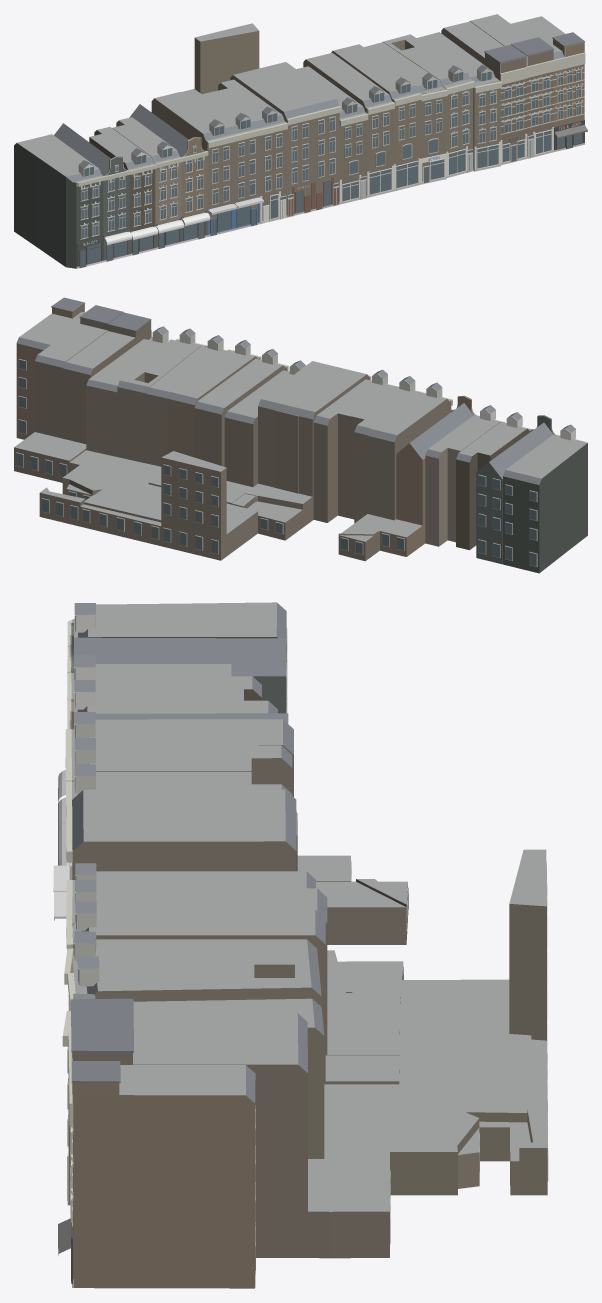
Rendered from chunk-face-kinker-206-242.glb.
The picture shows the model from 3 angles, top to bottom: view 1: azimuth 30°, elevation 25°; view 2: azimuth 150°, elevation 25°; view 3: azimuth 270°, elevation 25°; orthographic projection. The views are drawn at different scales.
Visible parts, largest first — view 1: face-kinker-206-242; view 2: face-kinker-206-242; view 3: face-kinker-206-242.
Boxes of the visible parts, x1,y1,x2,y2 form: face-kinker-206-242: [14, 14, 587, 268]; face-kinker-206-242: [14, 297, 587, 573]; face-kinker-206-242: [53, 602, 548, 1288].
Bounding box in the file's own units: 79.81 × 16.23 × 33.01.
